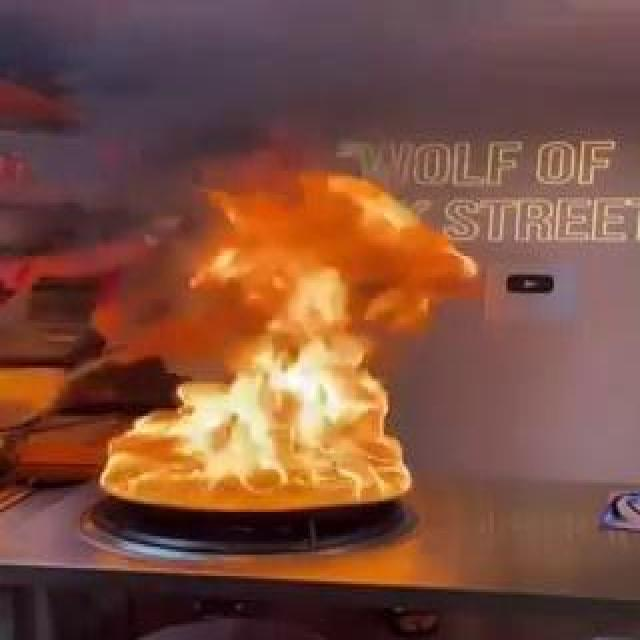Fire: (66, 171, 424, 517)
